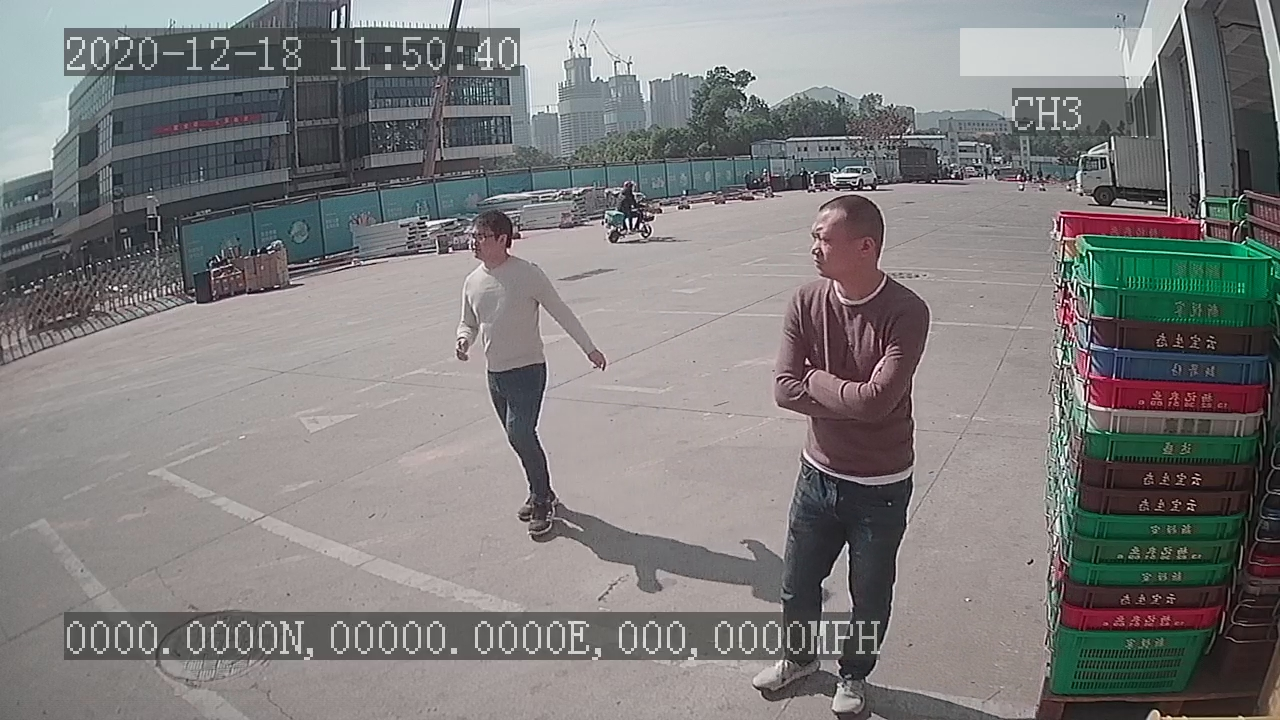person: (449, 206, 611, 547)
